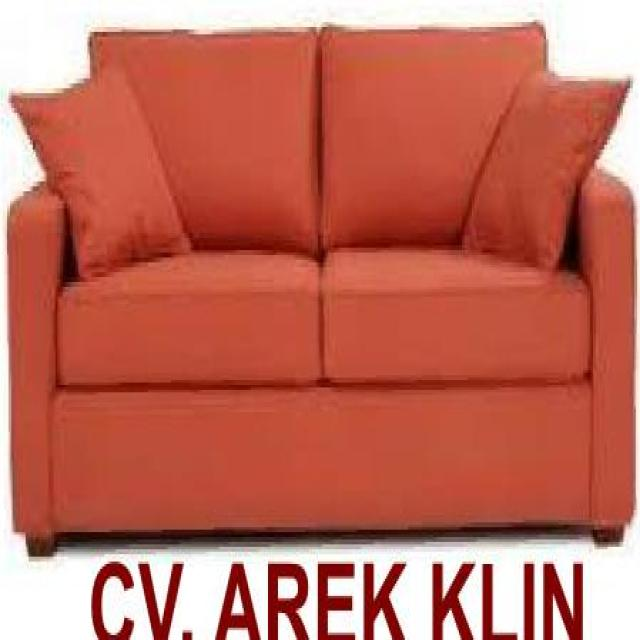sofa: (3, 26, 640, 555)
